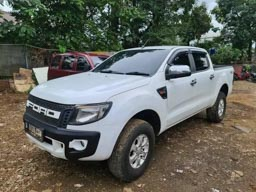plat: (17, 122, 45, 143)
